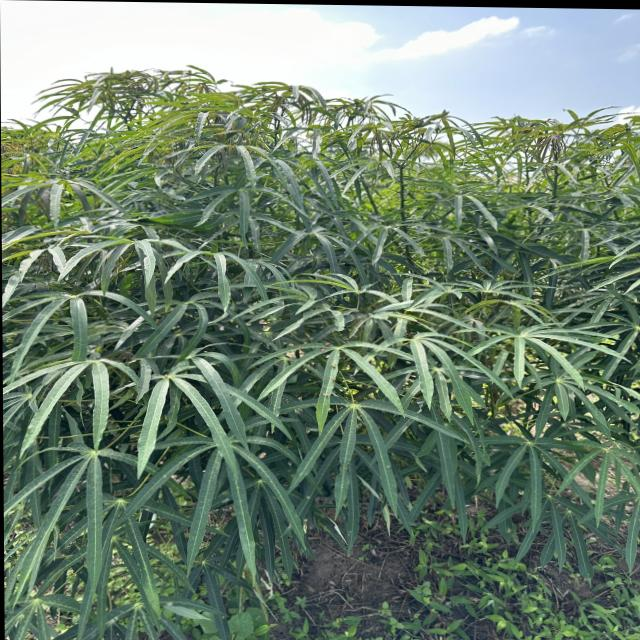Mosca: (314, 390, 333, 399), (384, 461, 396, 472), (120, 539, 132, 550), (330, 359, 338, 372), (325, 376, 341, 382)
